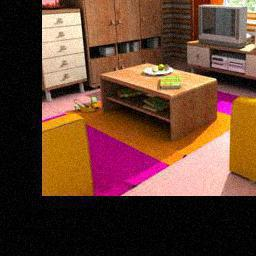Armario: (43, 11, 87, 95)
